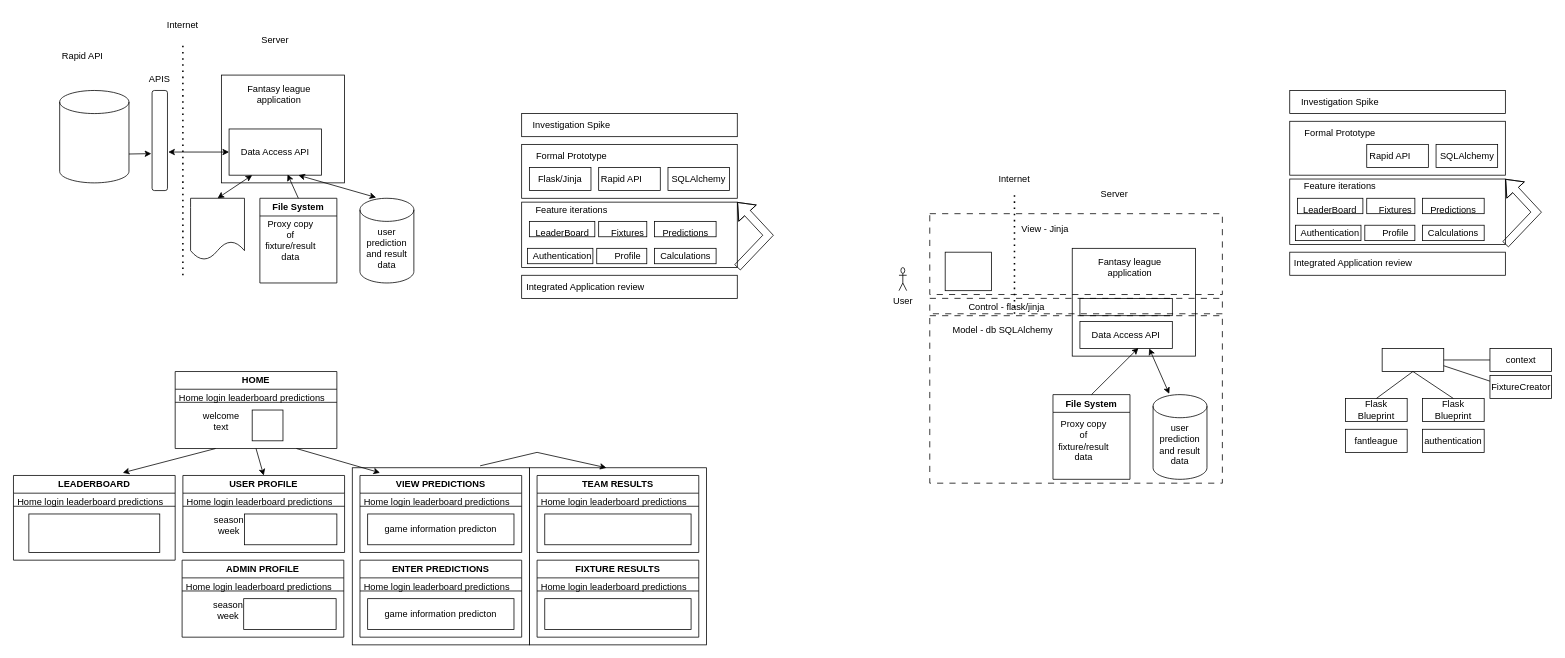
Some shapes in this 1565 by 658 pixel diagram are drawn without their labels. The shapes that lost their labels are listed below. From the top down, each one's centre as x and y in pixels, then its label:
At (94,136): "fixture and result data".
At (217,229): "API Keys".
At (967,271): "Browser".
At (1125,307): "App logic".
At (1412,360): "FLASK App".
At (94,532): "player points information".
At (290,529): "recent predictions".
At (617,529): "past results for team".
At (289,613): "update season/week".
At (617,613): "past results between teams".
